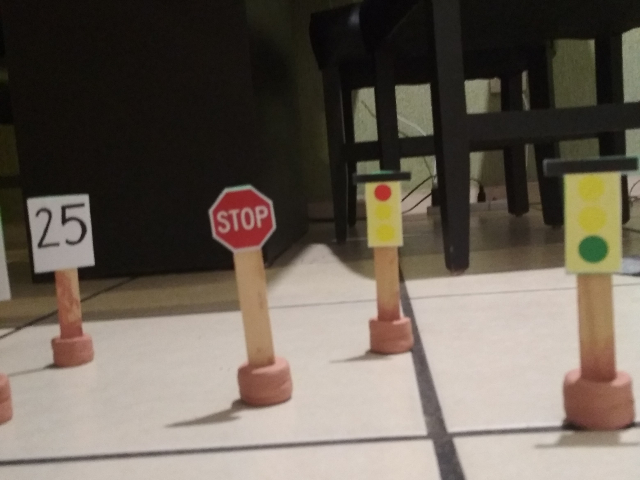Green Traffic Light: (540, 152, 639, 279)
Red Traffic Light: (349, 167, 413, 250)
Speed Limit 25: (24, 190, 96, 276)
Stop Sign: (206, 183, 276, 252)
